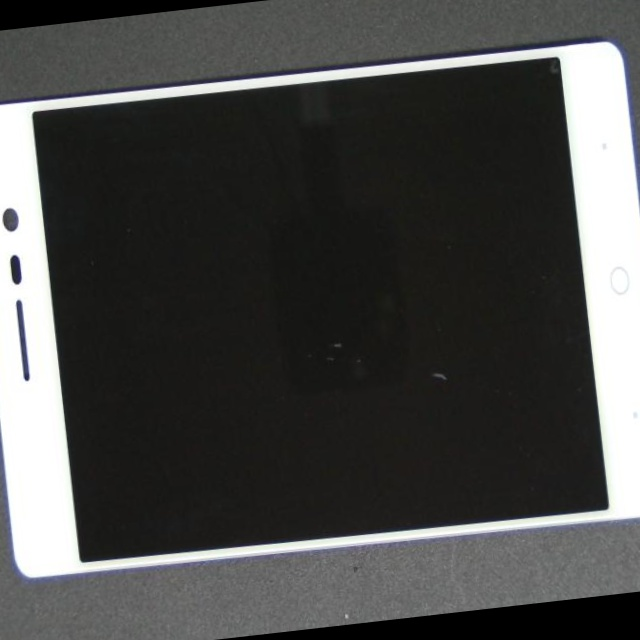scratch: (196, 141, 640, 577), (134, 130, 538, 528)
